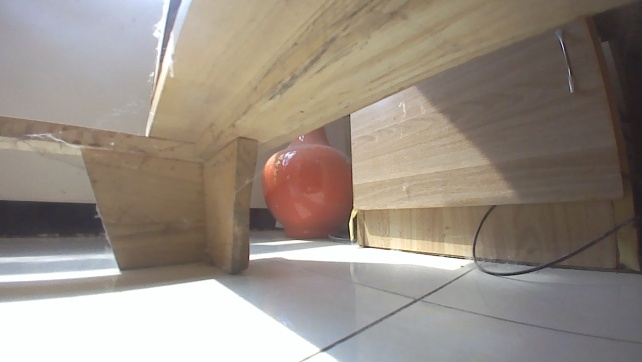wire: (467, 201, 641, 277)
